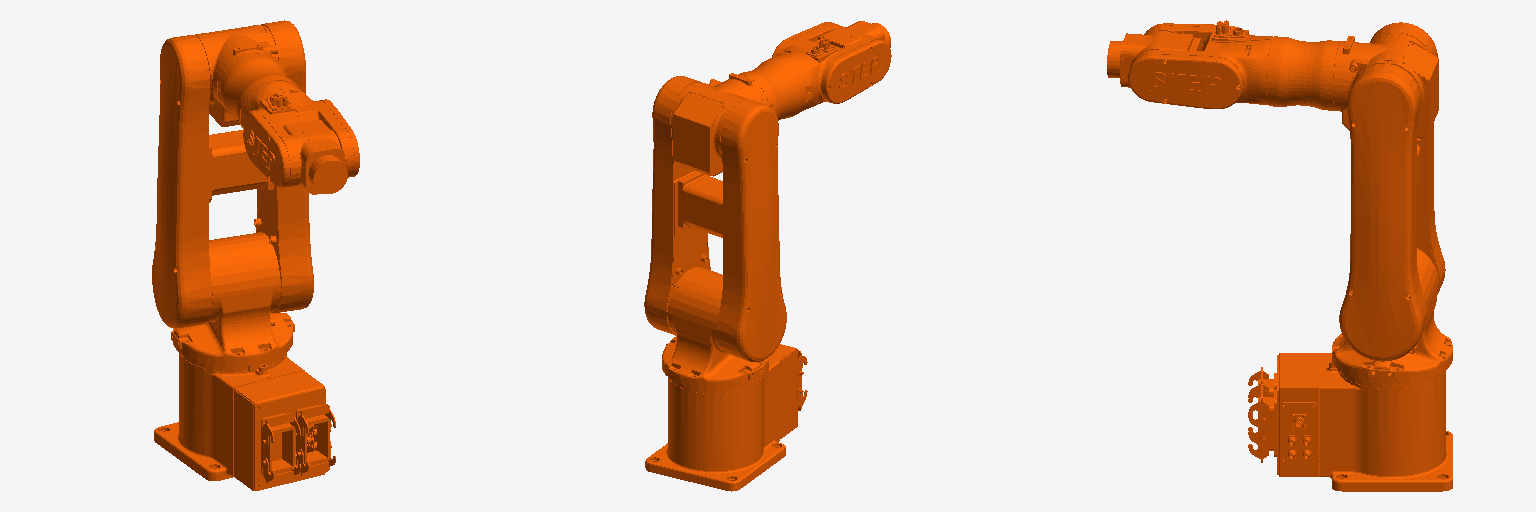
The robot description file, URDF, robot "Test_Link6":
<robot
  name="Test_Link6">

  <link
    name="Link1">
    <inertial>
      <origin
        xyz="-0.0194690222590367 -0.000269188119329776 0.0669003838868867"
        rpy="0 0 0" />
      <mass
        value="0.0359279497811904" />
      <inertia
        ixx="1.42651124467996E-06"
        ixy="-1.14697563287263E-06"
        ixz="-3.07542768744618E-07"
        iyy="3.37719865668805E-05"
        iyz="-6.42463475712563E-08"
        izz="3.50345845627506E-05" />
    </inertial>
    <visual>
      <origin
        xyz="0 0 0"
        rpy="0 0 1.5707963267949" />
      <geometry>
        <mesh
          filename="package://ros_robotics/meshes/Link1.STL" />
      </geometry>
      <material
        name="">
        <color
          rgba="1.0 0.42353 0.03921 1.0" />
      </material>
    </visual>
    <collision>
      <origin
        xyz="0 0 0"
        rpy="0 0 0" />
      <geometry>
        <mesh
          filename="package://ros_robotics/meshes/Link1.STL" />
      </geometry>
    </collision>
  </link>


  <joint
    name="joint1"
    type="revolute">
    <origin
      xyz="0 0 0.263"
      rpy="-1.5707963267949 -6.12303176911189E-17 0" />
    <parent
      link="Link1" />
    <child
      link="Link2" />
    <axis
      xyz="0 1 0" />
    <dynamics damping="0.7"/>
    <limit effort="100.0" velocity="0.5" lower="-2.9670597" upper="-2.9670597" />
  </joint>


  <link
    name="Link2">
    <inertial>
      <origin
        xyz="-3.54756695346284E-05 -0.375038997269737 -6.2497952556459E-05"
        rpy="0 0 0" />
      <mass
        value="0.0135840143314738" />
      <inertia
        ixx="1.71441330392907E-07"
        ixy="-1.8930226497111E-08"
        ixz="3.0114102826793E-11"
        iyy="1.07101367382291E-07"
        iyz="-7.04442535269447E-08"
        izz="1.08566587869789E-07" />
    </inertial>
    <visual>
      <origin
        xyz="0 0 0"
        rpy="0 0 0" />
      <geometry>
        <mesh
          filename="package://ros_robotics/meshes/Link2.STL" />
      </geometry>
      <material
        name="">
        <color
          rgba="1.0 0.42353 0.03921 1.0" />
      </material>
    </visual>
    <collision>
      <origin
        xyz="0 0 0"
        rpy="0 0 0" />
      <geometry>
        <mesh
          filename="package://ros_robotics/meshes/Link2.STL" />
      </geometry>
    </collision>
  </link>


  <joint
    name="joint2"
    type="revolute">
    <origin
      xyz="0 0 0"
      rpy="0 0 -1.3684555315672E-48" /> <!-- 3.14159265358979 -->
    <parent
      link="Link2" />
    <child
      link="Link3" />
    <axis
      xyz="1 0 0" />
    <limit effort="100.0" velocity="0.5" lower="-1.91986218" upper="1.91986218" />
  </joint>


  <link
    name="Link3">
    <inertial>
      <origin
        xyz="-0.0506443388040006 -0.143798658237929 3.89335646279565E-06"
        rpy="0 0 0" />
      <mass
        value="0.0152772138642927" />
      <inertia
        ixx="4.68068924117627E-06"
        ixy="7.98526082139994E-06"
        ixz="-2.06034030837181E-09"
        iyy="4.58027248821472E-05"
        iyz="2.21053702695254E-09"
        izz="5.02747299380165E-05" />
    </inertial>
    <visual>
      <origin
        xyz="0 0 0"
        rpy="0 0 0" />
      <geometry>
        <mesh
          filename="package://ros_robotics/meshes/Link3.STL" />
      </geometry>
      <material
        name="">
        <color
          rgba="1.0 0.42353 0.03921 1.0" />
      </material>
    </visual>
    <collision>
      <origin
        xyz="0 0 0"
        rpy="0 0 0" />
      <geometry>
        <mesh
          filename="package://ros_robotics/meshes/Link3.STL" />
      </geometry>
    </collision>
  </link>

  
  <joint
    name="joint3"
    type="revolute">
    <origin
      xyz="0 -0.35 0"
      rpy="3.14159265358979 0 -1.3684555315672E-48" /> <!-- -3.14159265358979 -->
    <parent
      link="Link3" />
    <child
      link="Link4" />
    <axis
      xyz="1 0 0" />
  <limit effort="100.0" velocity="0.5" lower="-3.83972435" upper="0.6981217" />
  </joint>

 
  <link
    name="Link4">
    <inertial>
      <origin
        xyz="0.000783677794492111 -0.0105511175519905 -0.013415824980232"
        rpy="0 0 0" />
      <mass
        value="0.0111977399013796" />
      <inertia
        ixx="5.99354901063005E-07"
        ixy="3.49796424921298E-09"
        ixz="-1.22041059156177E-08"
        iyy="4.72381590639246E-07"
        iyz="-1.46686325373655E-08"
        izz="1.71988766823068E-07" />
    </inertial>
    <visual>
      <origin
        xyz="0 0 0"
        rpy="0 0 0" />
      <geometry>
        <mesh
          filename="package://ros_robotics/meshes/Link4.STL" />
      </geometry>
      <material
        name="">
        <color
          rgba="1.0 0.42353 0.03921 1.0" />
      </material>
    </visual>
    <collision>
      <origin
        xyz="0 0 0"
        rpy="0 0 0" />
      <geometry>
        <mesh
          filename="package://ros_robotics/meshes/Link4.STL" />
      </geometry>
    </collision>
  </link>

  <joint
    name="joint4"
    type="revolute">
    <origin
      xyz="0 0 0"
      rpy="0 1.5707963267949 0" />
    <parent
      link="Link4" />
    <child
      link="Link5" />
    <axis
      xyz="1 0 0" />
  <limit effort="100.0" velocity="0.5" lower="-3.228859116" upper="3.228859116" />
  </joint>


  <link
    name="Link5">
    <inertial>
      <origin
        xyz="0.2048774145243 0.613531054308674 0.00764519285380588"
        rpy="0 0 0" />
      <mass
        value="0.00827986908835877" />
      <inertia
        ixx="3.66480511595762E-06"
        ixy="-2.06280153156517E-07"
        ixz="-2.54017991426406E-06"
        iyy="3.01128562811849E-05"
        iyz="-4.02736041541151E-08"
        izz="2.67548825608441E-05" />
    </inertial>
    <visual>
      <origin
        xyz="0 -0.613 0"
        rpy="0 0 0" />
      <geometry>
        <mesh
          filename="package://ros_robotics/meshes/Link5.STL" />
      </geometry>
      <material
        name="">
        <color
          rgba="1.0 0.42353 0.03921 1.0" />
      </material>
    </visual>
    <collision>
      <origin
        xyz="0 0 0"
        rpy="0 0 0" />
      <geometry>
        <mesh
          filename="package://ros_robotics/meshes/Link5.STL" />
      </geometry>
    </collision>
  </link>


  <joint
    name="joint5"
    type="revolute">
    <origin
      xyz="0.349 0 0"
      rpy="1.49011611938477E-08 1.5707963267949 0" /> 
    <parent
      link = "Link5" />
    <child
      link = "Link6" />
    <axis
      xyz = "1 0 0" />
  <limit effort="100.0" velocity="0.5" lower="-2.18166156" upper="2.18166156" />
  </joint>


  <link
    name="Link6">
    <inertial>
      <origin
        xyz="0.00579159804548861 -5.00490621480054E-06 0.0701365648415718"
        rpy="0 0 0" />
      <mass
        value="0.00179749006476744" />
      <inertia
        ixx="2.79825957341424E-07"
        ixy="1.46648732121811E-12"
        ixz="-2.39079156784003E-08"
        iyy="2.82244602149235E-07"
        iyz="1.9990144473869E-11"
        izz="3.09650629968848E-09" />
    </inertial>
    <visual>
      <origin
        xyz="0 0 -0.052"
        rpy="0 0 0" />
      <geometry>
        <mesh
          filename="package://ros_robotics/meshes/Link6.STL" />
      </geometry>
      <material
        name="">
        <color
          rgba="1.0 0.42353 0.03921 1.0" />
      </material>
    </visual>
    <collision>
      <origin
        xyz="0 0 0"
        rpy="0 0 0" />
      <geometry>
        <mesh
          filename="package://ros_robotics/meshes/Link6.STL" />
      </geometry>
    </collision>
  </link>


  <!-- Joint between Link6 and TOP -->
  <joint name="joint6" type="revolute">
    <parent link="Link6"/>
    <child link="Top_Link"/>
    <origin xyz="0 0 -0.045" rpy="0 0 0"/>
    <axis xyz="0 0 1"/>
    <limit effort="100.0" velocity="0.5" lower="-6.28" upper="6.28" />
  </joint>

  <!-- Top_Link -->
  <link name="Top_Link">
  <inertial>
      <mass
        value="0.001" />
      <inertia
        ixx="1"
        ixy="0"
        ixz="0"
        iyy="1"
        iyz="0"
        izz="1" />
    </inertial>
    <visual>
      <origin xyz="0 0 0.001" rpy="0 0 0"/>
      <geometry>
	<box size="0.001 0.001 0.001"/>
      </geometry>
      <material
        name="">
        <color
          rgba="1.0 0.42353 0.03921 1.0" />
      </material>
    </visual>

    <collision>
      <origin xyz="0 0 0.001" rpy="0 0 0"/>
      <geometry>
	<box size="0.001 0.001 0.001"/>
      </geometry>
    </collision>
  </link>


<!-- gripper -->

  <joint name="left_gripper_joint" type="revolute">
    <parent link="Top_Link"/>
    <child link="left_gripper"/>
    <origin xyz="0 0 0.11" rpy="0 -1.57 0"/>
    <axis xyz="0 0 -1"/>
    <limit effort="30.0" lower="-0.548" upper="0.0" velocity="0.1"/>
  </joint>

  <link name="left_gripper">
    <visual>
      <origin rpy="0 0 0" xyz="0 0 0"/>
      <geometry>
        <mesh filename="package://ros_robotics/meshes/l_finger.dae"/>
      </geometry>
    </visual>

    <collision>
      <geometry>
        <box size="0.1 0.1 0.1"/>
      </geometry>
    </collision>
    <inertial>
      <mass
        value="0.001" />
      <inertia
        ixx="1"
        ixy="0"
        ixz="0"
        iyy="1"
        iyz="0"
        izz="1" />
    </inertial>
  </link>

  <joint name="left_tip_joint" type="fixed">
    <parent link="left_gripper"/>
    <child link="left_tip"/>
  </joint>

  <link name="left_tip">
    <visual>
      <origin rpy="0 0 0" xyz="0.09137 0.00495 0"/>
      <geometry>
        <mesh filename="package://ros_robotics/meshes/l_finger_tip.dae"/>
      </geometry>
    </visual>

    <collision>
      <geometry>
        <box size="0.1 0.1 0.1"/>
      </geometry>
    </collision>
        <inertial>
      <mass
        value="0.001" />
      <inertia
        ixx="1"
        ixy="0"
        ixz="0"
        iyy="1"
        iyz="0"
        izz="1" />
    </inertial>
  </link>

  <joint name="right_gripper_joint" type="revolute">
    <parent link="Top_Link"/>
    <child link="right_gripper"/>
    <origin xyz="0 0 0.11" rpy="0 -1.57 0"/>
    <axis xyz="0 0 1"/>
    <limit effort="30.0" lower="-0.548" upper="0.0" velocity="0.1"/>
  </joint>

  <link name="right_gripper">
    <visual>
      <origin rpy="3.1415 0 0" xyz="0 0 0"/>
      <geometry>
        <mesh filename="package://ros_robotics/meshes/l_finger.dae"/>
      </geometry>
    </visual>

    <collision>
      <geometry>
        <box size="0.1 0.1 0.1"/>
      </geometry>
    </collision>
        <inertial>
      <mass
        value="0.001" />
      <inertia
        ixx="1"
        ixy="0"
        ixz="0"
        iyy="1"
        iyz="0"
        izz="1" />
    </inertial>
  </link>

  <joint name="right_tip_joint" type="fixed">
    <parent link="right_gripper"/>
    <child link="right_tip"/>
  </joint>

  <link name="right_tip">
    <visual>
      <origin rpy="-3.1415 0 0" xyz="0.09137 0.00495 0"/>
      <geometry>
        <mesh filename="package://ros_robotics/meshes/l_finger_tip.dae"/>
      </geometry>
    </visual>

    <collision>
      <geometry>
        <box size="0.1 0.1 0.1"/>
      </geometry>
    </collision>
        <inertial>
      <mass
        value="0.001" />
      <inertia
        ixx="1"
        ixy="0"
        ixz="0"
        iyy="1"
        iyz="0"
        izz="1" />
    </inertial>
  </link>


</robot>

--- What the picture shows (computed from the rendered views, not written in the file) ---
3 views of the same robot in one strip: view 1: azimuth 30°, elevation 25°; view 2: azimuth 150°, elevation 25°; view 3: azimuth 270°, elevation 25° (orthographic).
Model Test_Link6 with 11 links and 10 joints (8 revolute, 2 fixed), rooted at Link1, posed joints at zero except 1 at the middle of their limits (joint1 = -2.97).
Links seen in each view (by area): view 1: Link3, Link1, Link2, Link5, Link6, Link4; view 2: Link3, Link1, Link5, Link2, Link4, Link6; view 3: Link3, Link1, Link5, Link4, Link2, Link6.
Boxes of the visible links, box(x1,y1,x2,y2) form: Link3: box(152, 20, 313, 328); Link1: box(154, 353, 335, 490); Link2: box(171, 232, 294, 371); Link5: box(220, 54, 359, 187); Link6: box(283, 120, 347, 194); Link4: box(195, 25, 277, 126); Link3: box(644, 76, 786, 361); Link1: box(645, 344, 807, 491); Link5: box(738, 22, 891, 120); Link2: box(662, 267, 768, 388); Link4: box(673, 73, 768, 176); Link6: box(815, 21, 890, 49); Link3: box(1339, 22, 1445, 361); Link1: box(1248, 353, 1452, 491); Link5: box(1128, 20, 1340, 110); Link4: box(1333, 33, 1438, 138); Link2: box(1332, 248, 1452, 383); Link6: box(1107, 31, 1200, 87).
Size in the robot's own frame: 0.2429 by 0.5128 by 0.6924 metres.
Meshes: 8 distinct files referenced, 6 mesh visuals loaded (6 binary STL); not drawn: 4 (reference not matched to a file when rendering).
